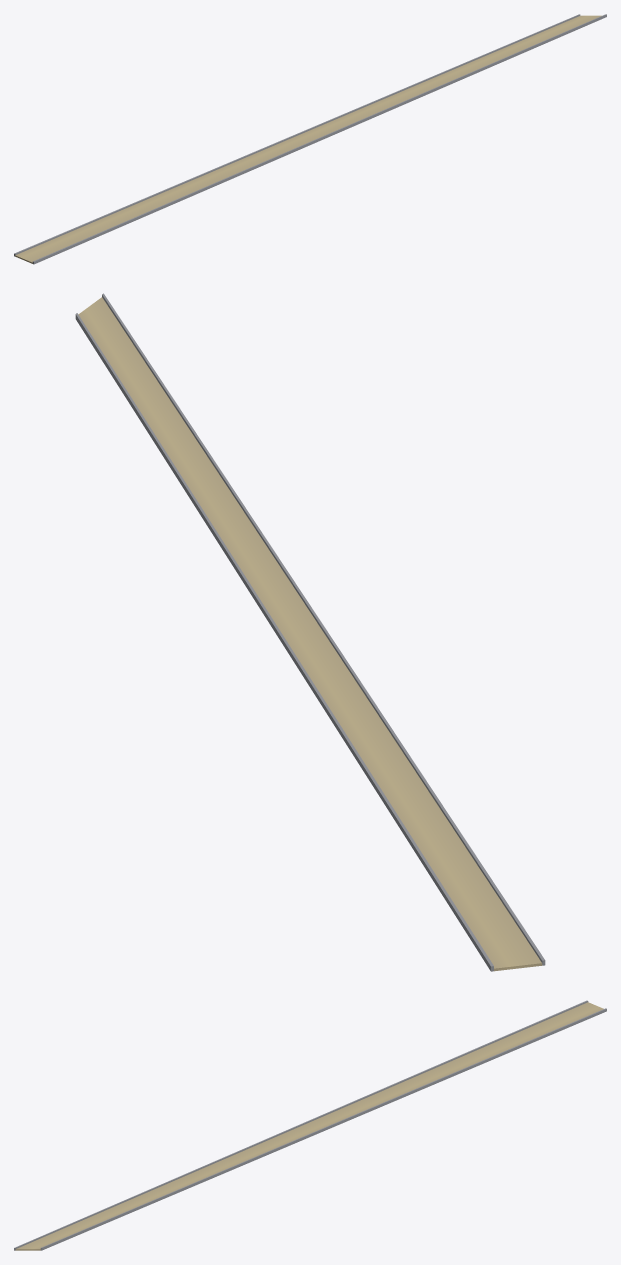
The model's file is sidewalk_21.fbx.
The picture shows the model from 3 angles, top to bottom: view 1: azimuth 90°, elevation 25°; view 2: azimuth 150°, elevation 25°; view 3: azimuth 270°, elevation 25°; orthographic projection. The views are drawn at different scales.
Visible parts, largest first — view 1: sidewalk_20; view 2: sidewalk_20; view 3: sidewalk_20.
Boxes of the visible parts, left/top/right/bottom form: sidewalk_20: left=14, top=14, right=606, bottom=264; sidewalk_20: left=75, top=293, right=545, bottom=971; sidewalk_20: left=14, top=1000, right=606, bottom=1250.
Bounding box in the file's own units: 5.65 × 0.0271 × 5.71.
Materials: 1 (1 with a texture image).
